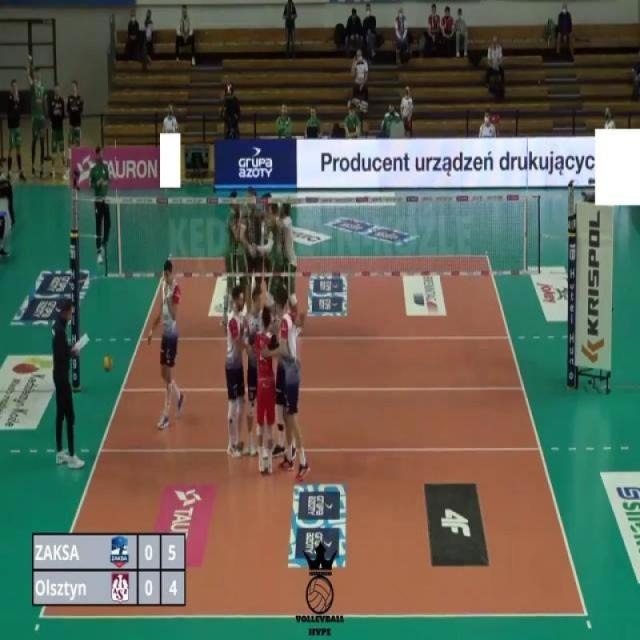volleyball: (103, 354, 113, 374)
